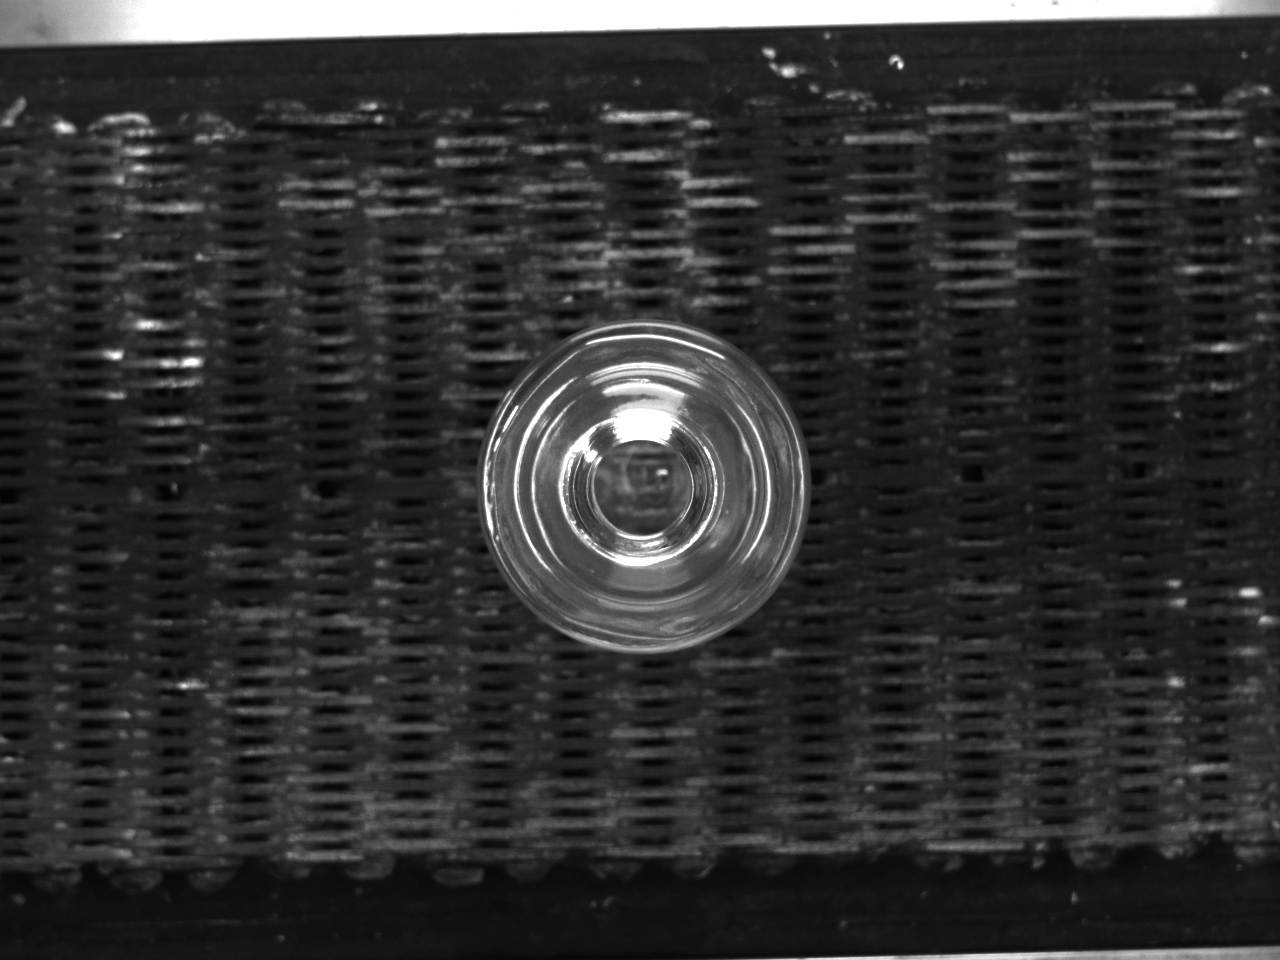bottleneck: (561, 412, 719, 568)
